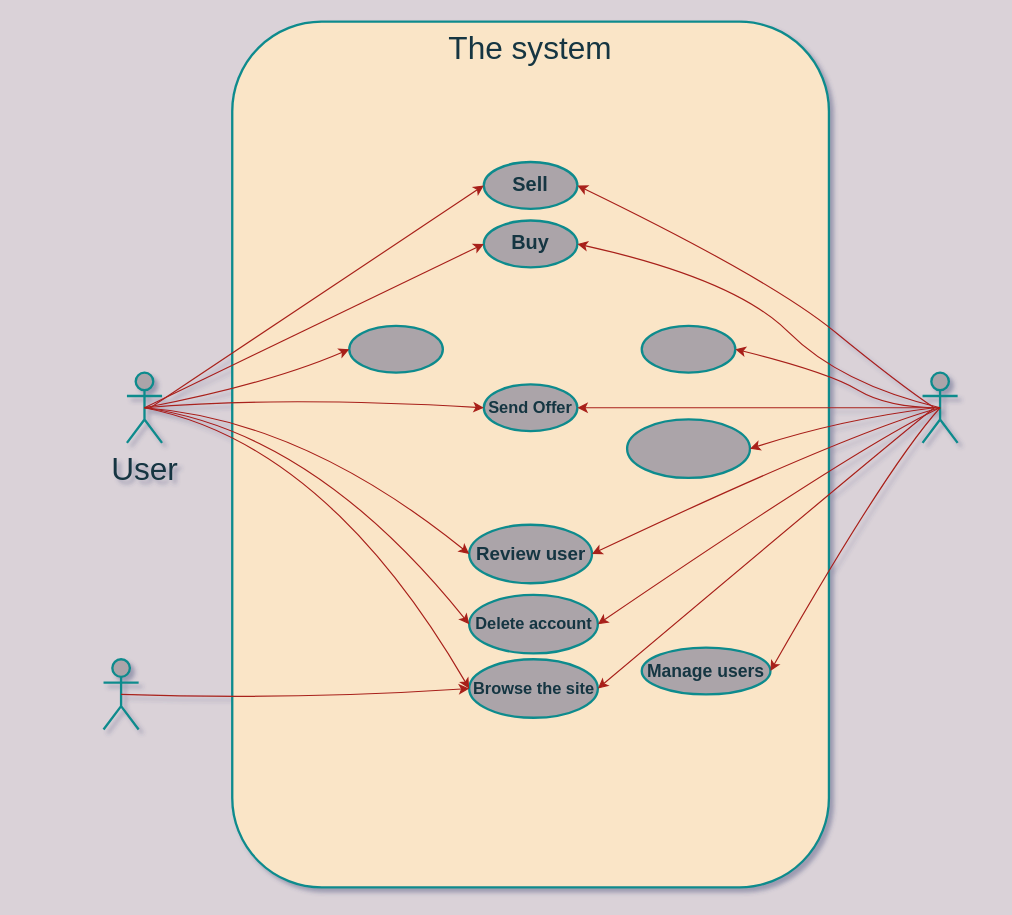
Some shapes in this 1012 by 915 pixel diagram are drawn without their labels. The centre of each missing label's shape, as x and y in pixels:
"Admin" belongs at point (939, 407).
"Ban user" belongs at point (688, 348).
"Report" belongs at point (395, 348).
"Review reports" belongs at point (688, 448).
"Visitor (not logged in)" belongs at point (120, 694).
